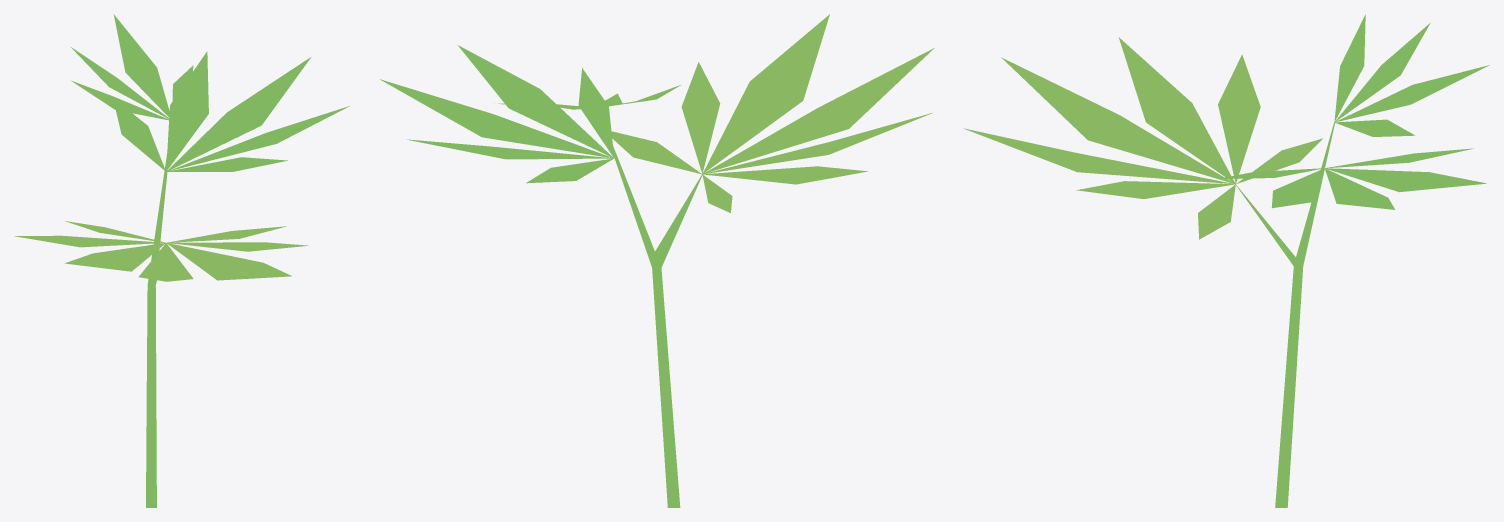
Rendered from Plant_i_TwoS_01.fbx.
3 renders of one model, left to right at view 1: azimuth 30°, elevation 25°; view 2: azimuth 150°, elevation 25°; view 3: azimuth 270°, elevation 25°, orthographic. The views are drawn at different scales.
Parts seen in each view (by area): view 1: Plant_i_TwoS_01; view 2: Plant_i_TwoS_01; view 3: Plant_i_TwoS_01.
Boxes of the visible parts, bbox=[...] form: Plant_i_TwoS_01: bbox=[14, 14, 349, 507]; Plant_i_TwoS_01: bbox=[380, 14, 934, 507]; Plant_i_TwoS_01: bbox=[963, 14, 1489, 507].
Size of the model in its own units: 0.7394 by 0.7981 by 0.8021.
